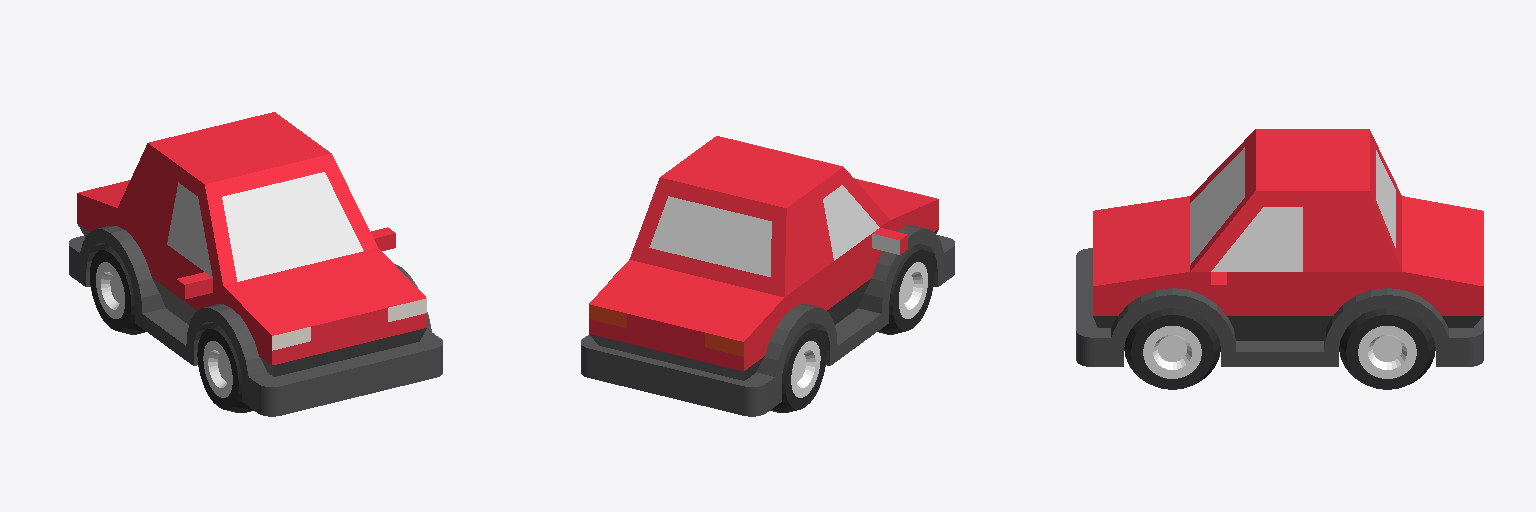
Rendered from sedan.obj.
3 renders of one model, left to right at view 1: azimuth 30°, elevation 25°; view 2: azimuth 150°, elevation 25°; view 3: azimuth 270°, elevation 25°, orthographic.
Parts seen in each view (by area): view 1: body, wheel_backRight, wheel_frontRight; view 2: body, wheel_frontRight, wheel_backRight; view 3: body, wheel_backLeft, wheel_frontLeft.
Boxes of the visible parts, x1=… form: body: x1=69, y1=112, x2=442, y2=416; wheel_backRight: x1=90, y1=244, x2=145, y2=334; wheel_frontRight: x1=197, y1=323, x2=253, y2=412; body: x1=581, y1=136, x2=954, y2=416; wheel_frontRight: x1=878, y1=244, x2=933, y2=334; wheel_backRight: x1=770, y1=323, x2=826, y2=412; body: x1=1076, y1=129, x2=1483, y2=366; wheel_backLeft: x1=1339, y1=308, x2=1435, y2=389; wheel_frontLeft: x1=1124, y1=308, x2=1220, y2=389.
Bounding box in the file's own units: 59.06 × 51.18 × 98.43.